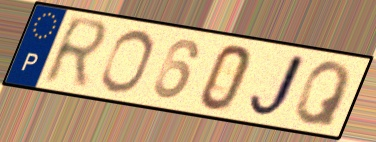0: (198, 42, 253, 113)
6: (152, 38, 202, 102)
J: (246, 51, 310, 122)
O: (97, 28, 157, 96)
Q: (292, 60, 354, 130)
R: (40, 14, 113, 92)
